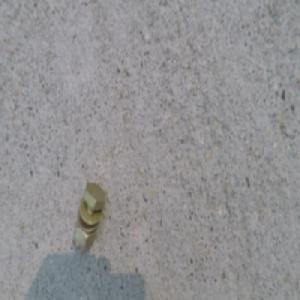BoltNutSet: (72, 178, 105, 250)
